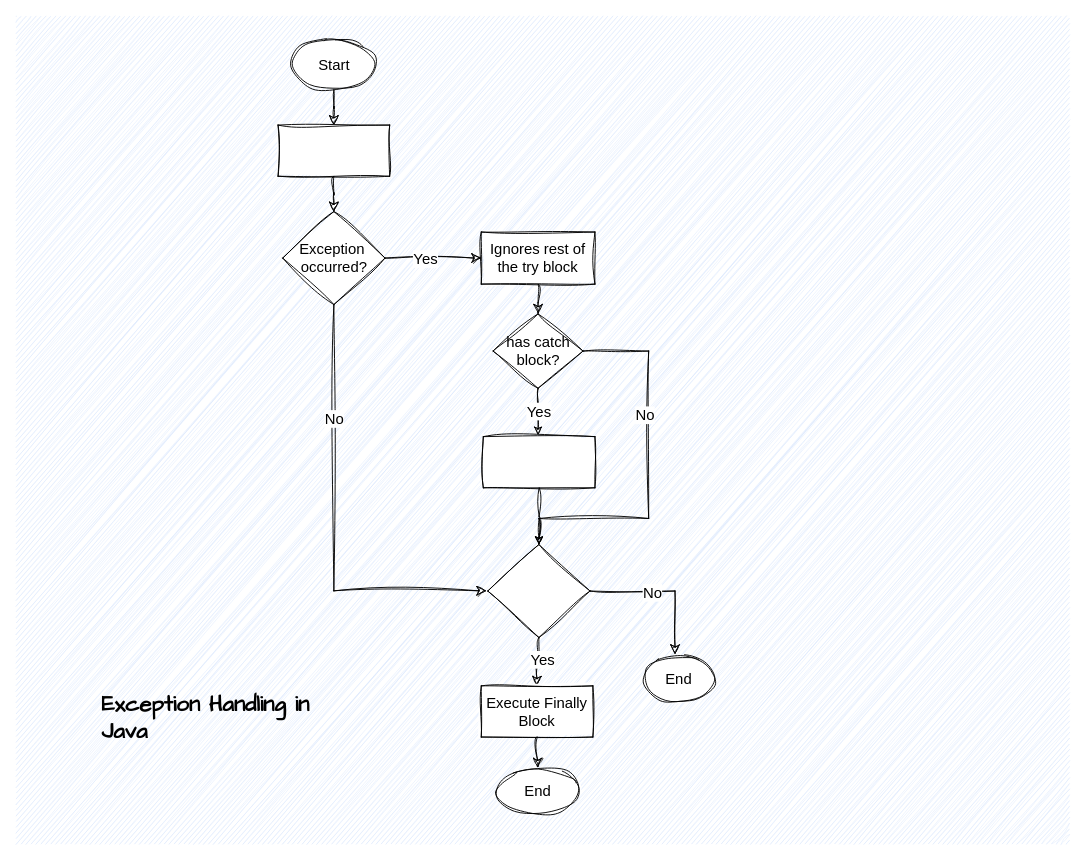
The diagram is 1083 pixels wide and 859 high, and some of its shapes have lost their labels. Here are the shapes that lost their labels. From the top down, the centre of each, then its label:
(333,150): Execute try block
(538,462): Execute catch block
(538,591): Has finally block?
